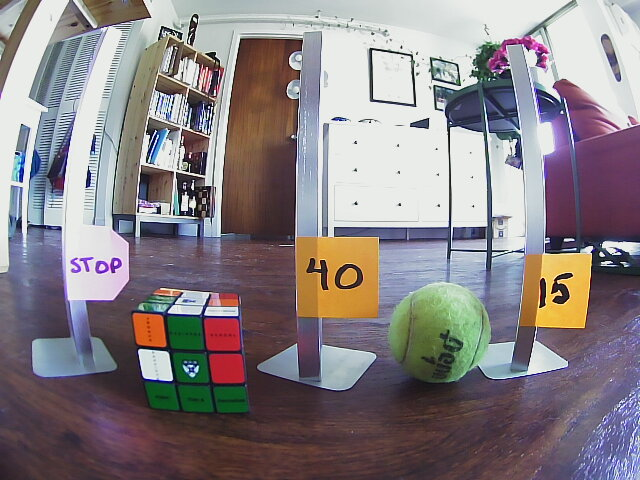15: (521, 254, 590, 327)
40: (300, 239, 377, 317)
ball: (389, 283, 491, 382)
cube: (133, 290, 251, 407)
stop: (63, 228, 127, 298)
